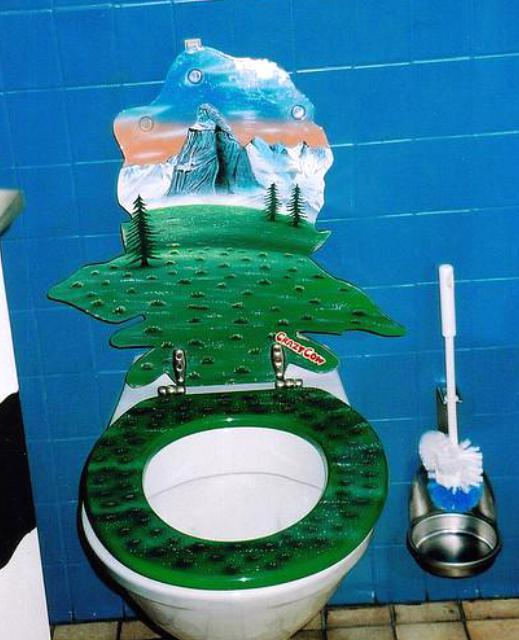Sanitario: (51, 75, 414, 640)
